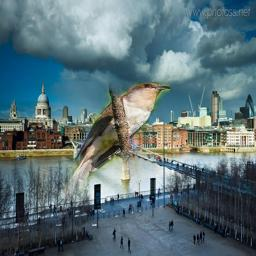Cuckoo: (56, 82, 170, 212)
